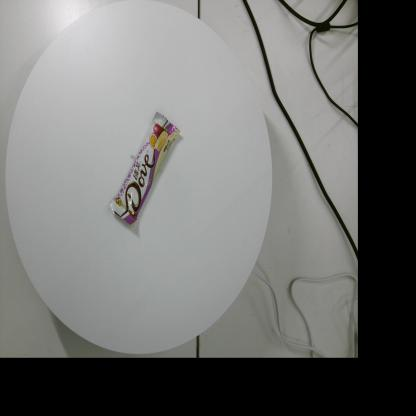Chocolate: (109, 111, 180, 226)
